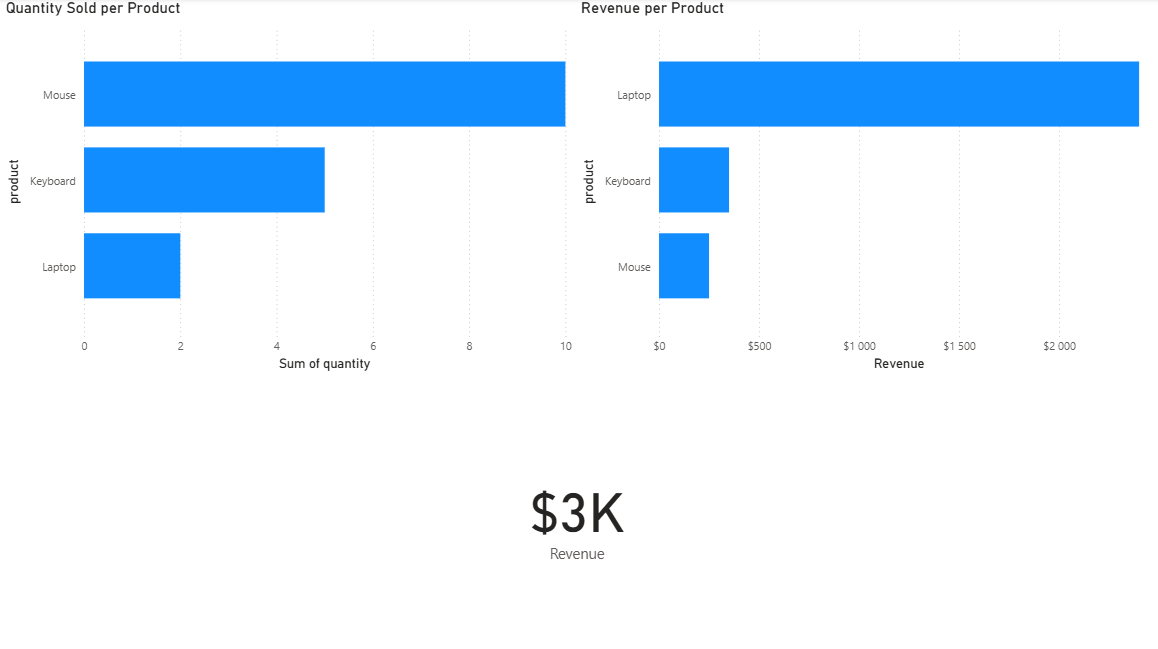

The dashboard page shown, as its layout file describes it:
{"tool":"powerbi","page":{"name":"Page 1","canvas":[1280,720],"ordinal":0},"visuals":[{"type":"barChart","title":"Quantity Sold per Product","fields":{"Y":["Sum(sales.quantity)"],"Category":["sales.product"]},"box":[8.2,0,631.2,414.4],"z":0},{"type":"clusteredBarChart","title":"Revenue per Product","fields":{"Category":["sales.product"],"Y":["sales.Revenue"]},"box":[639.5,0,640.8,414.4],"z":1000},{"type":"card","fields":{"Values":["sales.Revenue"]},"box":[0,414.4,1280.3,306],"z":1001}]}

Visuals, with their boxes in screenshot pixels (x1, y1, x2, y2), scaled from the page's 1280x720 canvas onto the 1158x649 screenshot:
"Quantity Sold per Product" barChart: [left=7, top=0, right=578, bottom=374]
"Revenue per Product" clusteredBarChart: [left=579, top=0, right=1157, bottom=374]
card - sales.Revenue: [left=0, top=374, right=1157, bottom=648]
